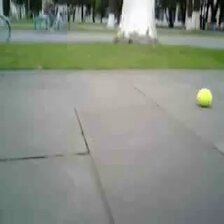tennis: (196, 88, 213, 107)
